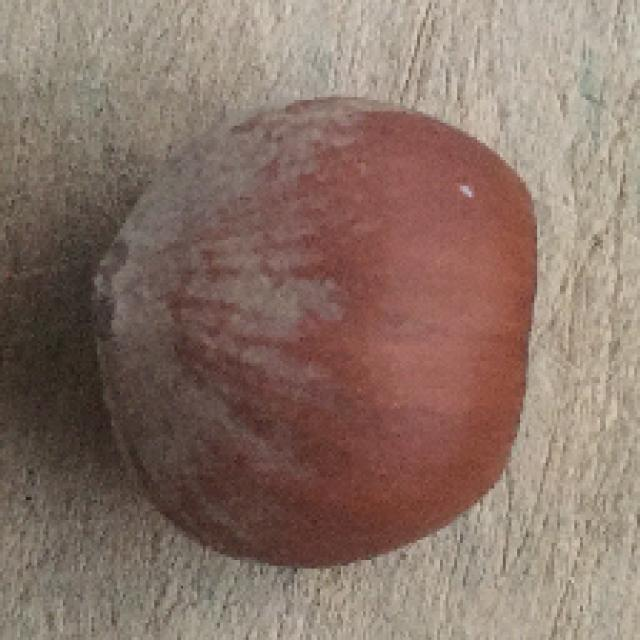qualityHazelnut: (90, 91, 538, 567)
